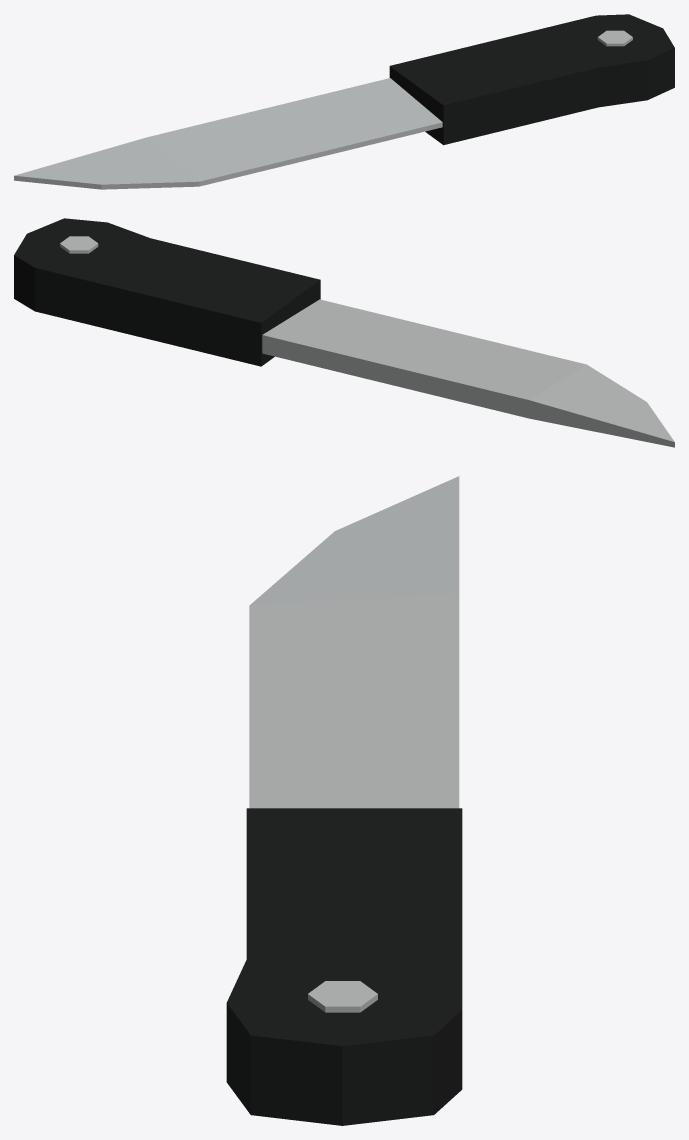
The model's file is knife.fbx.
3 renders of one model, top to bottom at view 1: azimuth 30°, elevation 25°; view 2: azimuth 150°, elevation 25°; view 3: azimuth 270°, elevation 25°, orthographic. The views are drawn at different scales.
Visible parts, largest first — view 1: knife; view 2: knife; view 3: knife.
Boxes of the visible parts, left/top/right/bottom form: knife: left=14, top=14, right=674, bottom=189; knife: left=14, top=218, right=674, bottom=447; knife: left=226, top=476, right=462, bottom=1125.
Size of the model in its own units: 141 by 9.82 by 23.13.
Materials: 1 (1 with a texture image).
